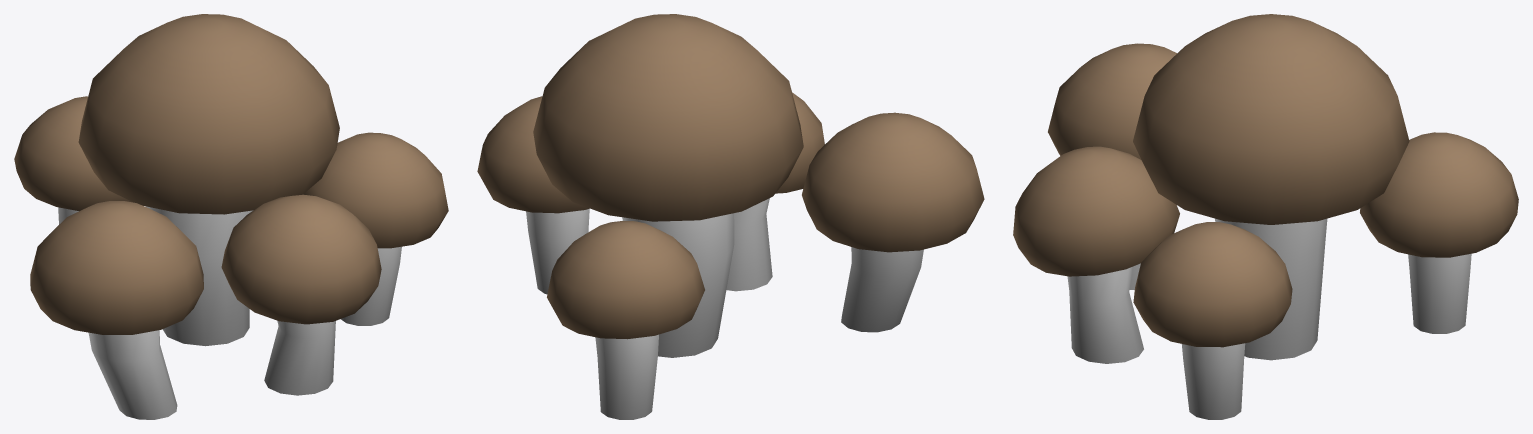
File: Mushroom_06.fbx
3 views of the same model, side by side, from view 1: azimuth 30°, elevation 25°; view 2: azimuth 150°, elevation 25°; view 3: azimuth 270°, elevation 25° (orthographic). The views are drawn at different scales.
Visible parts, largest first — view 1: Mushroom_06_LOD0; view 2: Mushroom_06_LOD0; view 3: Mushroom_06_LOD0.
Part boxes in pixels (bbox=[...]): Mushroom_06_LOD0: bbox=[14, 14, 448, 419]; Mushroom_06_LOD0: bbox=[477, 14, 984, 419]; Mushroom_06_LOD0: bbox=[1013, 14, 1518, 419].
Size of what is drawn, in the model's own units: 0.1602 by 0.1079 by 0.1547.
